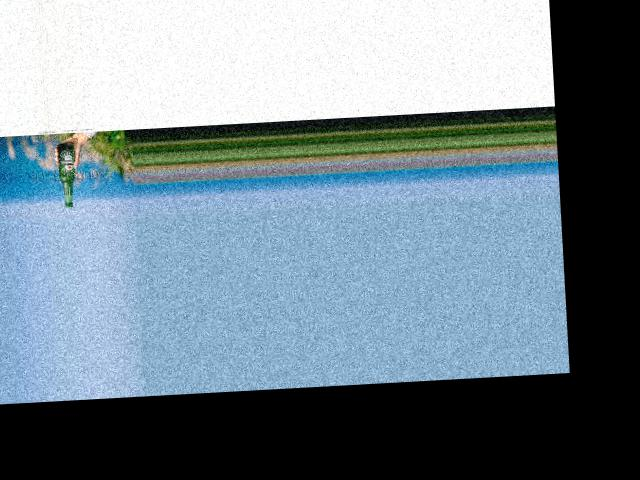beer: (57, 142, 77, 207)
